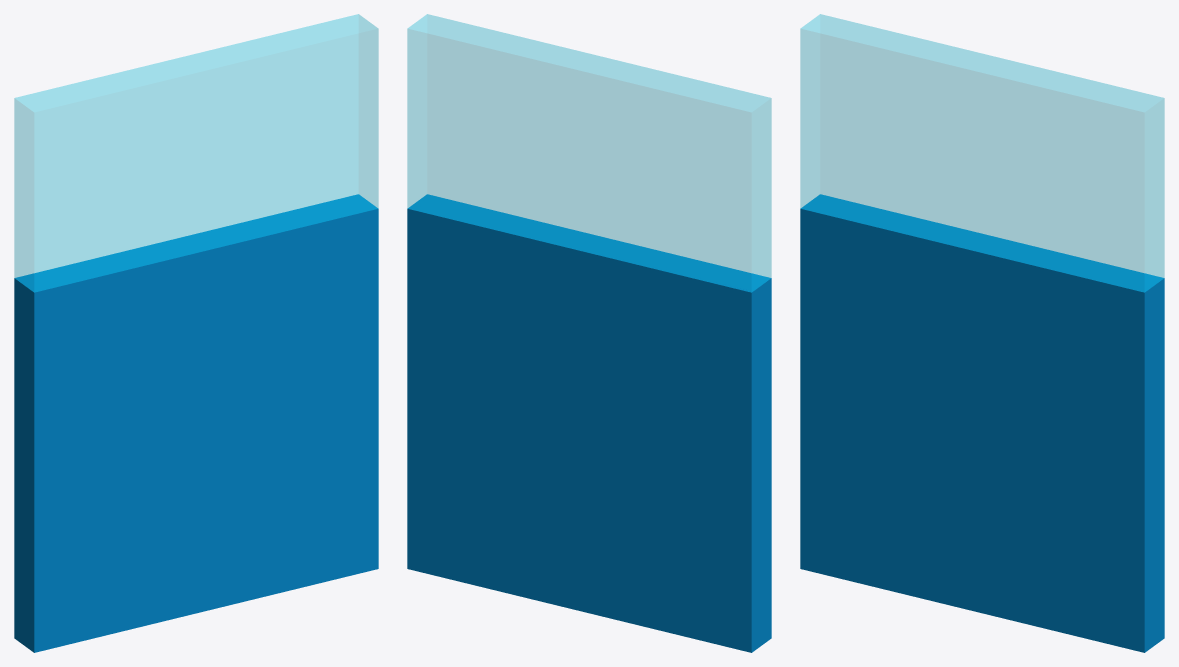
The picture shows the model from 3 angles, left to right: view 1: azimuth 30°, elevation 25°; view 2: azimuth 150°, elevation 25°; view 3: azimuth 330°, elevation 25°; orthographic projection.
Visible parts, largest first — view 1: 立方体.001, 立方体; view 2: 立方体.001, 立方体; view 3: 立方体.001, 立方体.
Boxes of the visible parts, left/top/right/bottom form: 立方体.001: left=14, top=194, right=378, bottom=652; 立方体: left=14, top=14, right=378, bottom=292; 立方体.001: left=407, top=194, right=771, bottom=652; 立方体: left=407, top=14, right=771, bottom=292; 立方体.001: left=800, top=194, right=1164, bottom=652; 立方体: left=800, top=14, right=1164, bottom=292.
Bounding box in the file's own units: 2000 × 3000 × 200.
